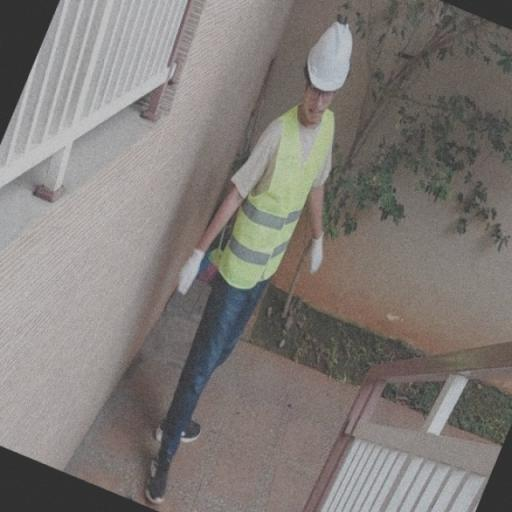Person: (138, 12, 380, 510)
boots: (240, 283, 310, 367), (124, 452, 174, 512), (148, 410, 218, 444)
gloves: (293, 221, 339, 272), (173, 242, 211, 300)
helmet: (302, 18, 363, 92)
vest: (203, 96, 341, 300)
